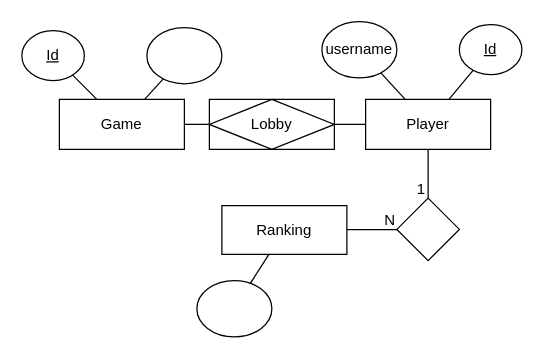
This 544x360 diagram has some shape labels left out. Here are the shapes that lost their labels. From the top down, the centre of each, then its label:
the point at 184,55: state
the point at 427,229: has
the point at 234,308: played games
